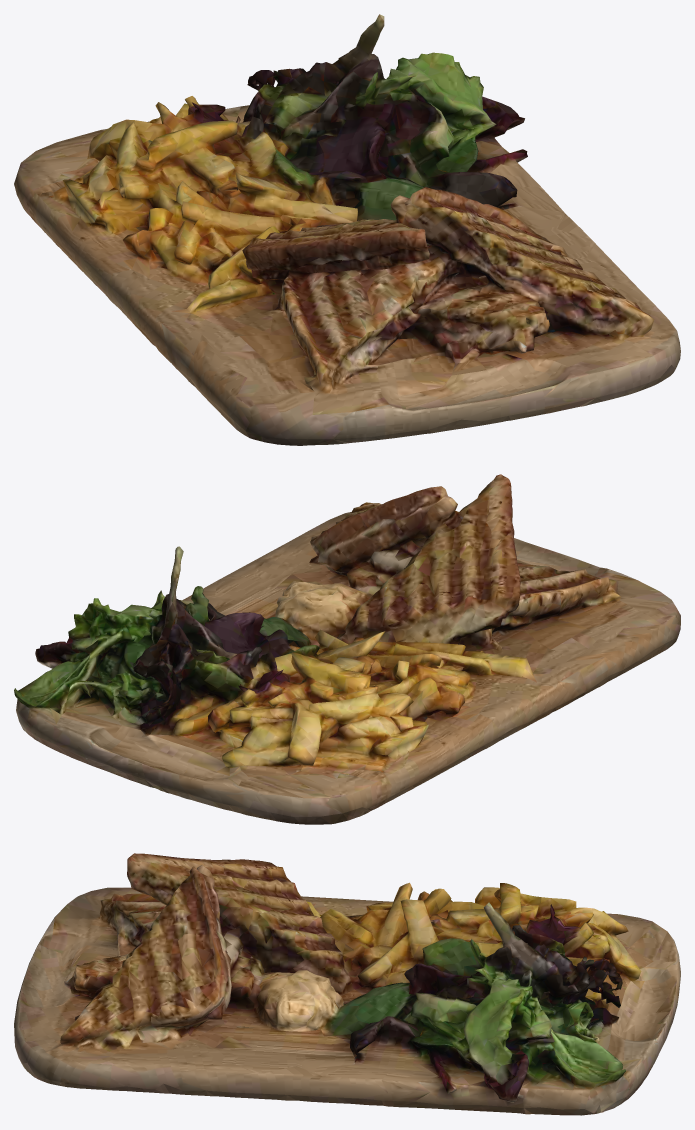
The picture shows the model from 3 angles, top to bottom: view 1: azimuth 30°, elevation 25°; view 2: azimuth 150°, elevation 25°; view 3: azimuth 270°, elevation 25°; orthographic projection. The views are drawn at different scales.
Parts seen in each view (by area): view 1: 3DModel_LowPoly.001_0; view 2: 3DModel_LowPoly.001_0; view 3: 3DModel_LowPoly.001_0.
Part boxes in pixels (bbox=[...]): 3DModel_LowPoly.001_0: bbox=[14, 14, 680, 445]; 3DModel_LowPoly.001_0: bbox=[14, 474, 680, 824]; 3DModel_LowPoly.001_0: bbox=[14, 853, 680, 1115].
Bounding box in the file's own units: 0.2523 × 0.0868 × 0.3268.
Materials: 1 (1 with a texture image).
